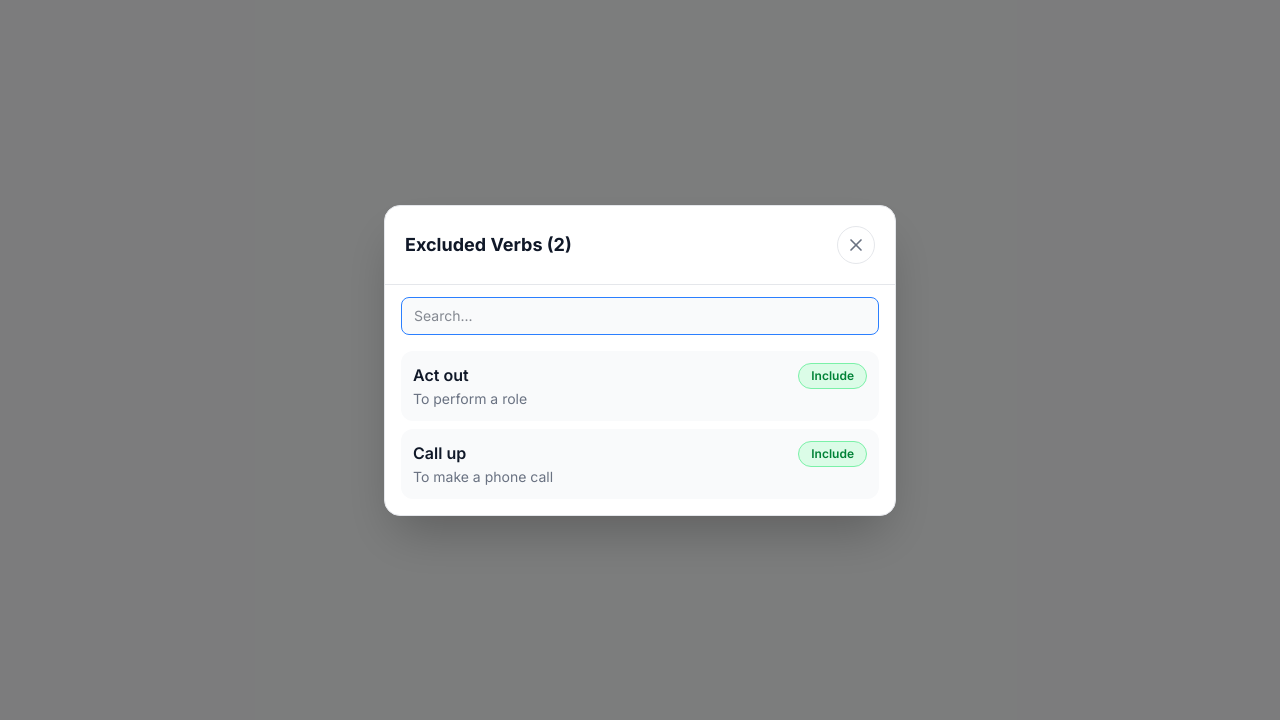
Test case: ExcludedModal › filters the list by verb name when search query matches
The image size is (1280, 720).
Type "Act" into the field with placeholder "Search...". click: (640, 316)
box: [401,296,879,334]
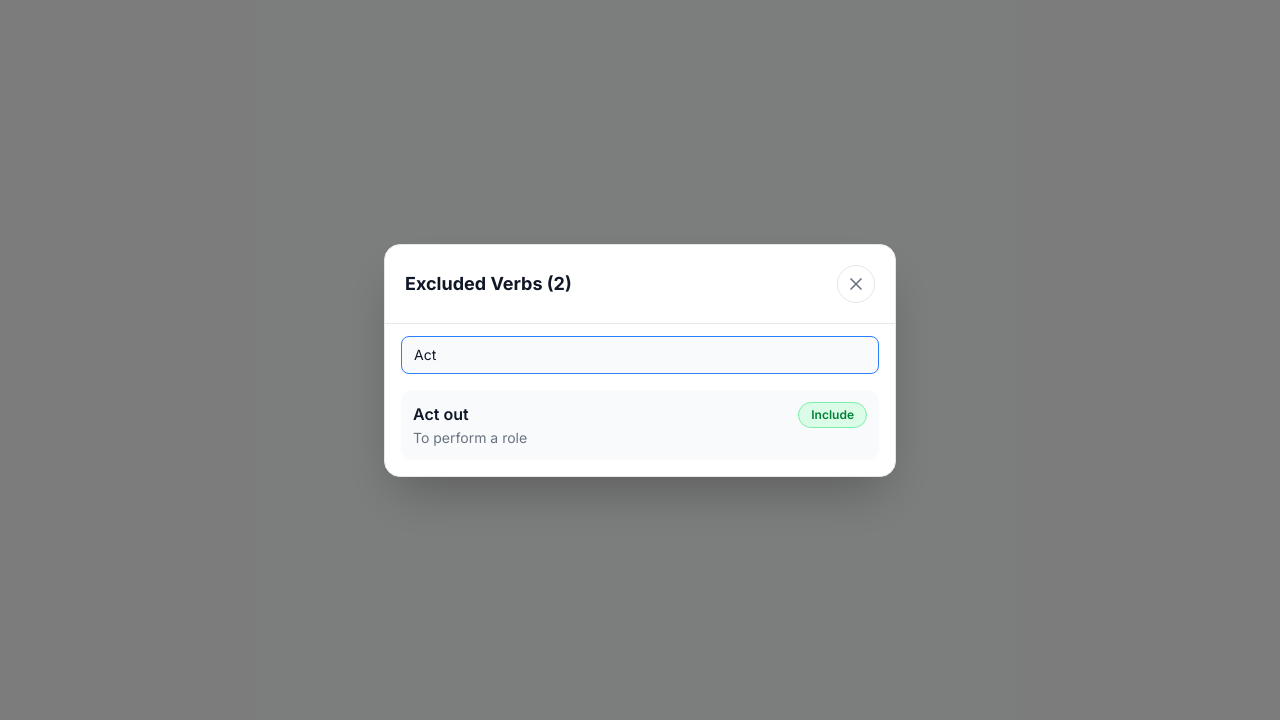
expect the text "Act out" is shown: met, box [413,404,469,424]
expect the text "Call up" is gone: met
